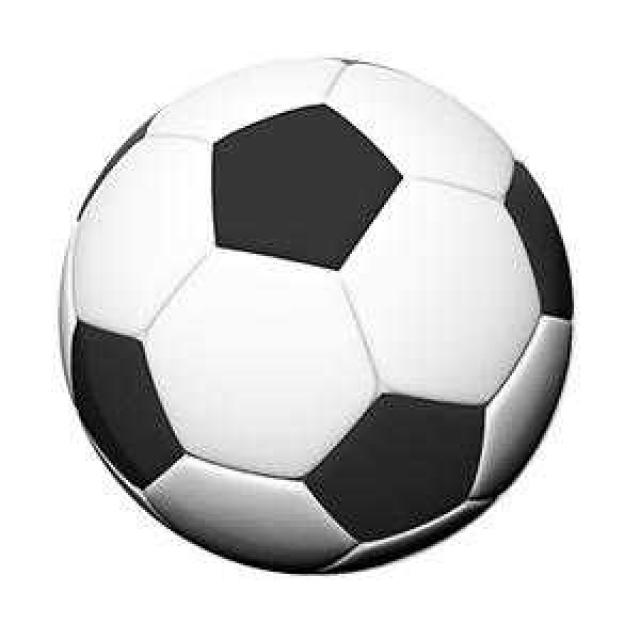ball: (56, 53, 574, 575)
